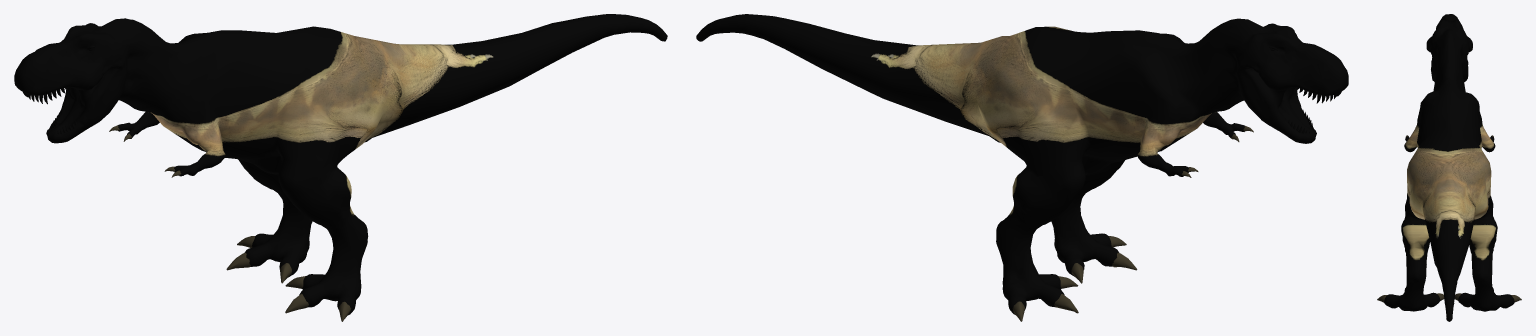
The model's file is dinasour.dae.
3 renders of one model, left to right at view 1: azimuth 30°, elevation 25°; view 2: azimuth 150°, elevation 25°; view 3: azimuth 270°, elevation 25°, orthographic. The views are drawn at different scales.
Visible parts, largest first — view 1: UNAS; view 2: UNAS; view 3: UNAS.
Part boxes in pixels (x1=…): UNAS: x1=14, y1=14, x2=667, y2=321; UNAS: x1=696, y1=14, x2=1348, y2=321; UNAS: x1=1377, y1=14, x2=1521, y2=321.
Bounding box in the file's own units: 13.15 × 3.69 × 5.98.
4 materials, 1 textured.
